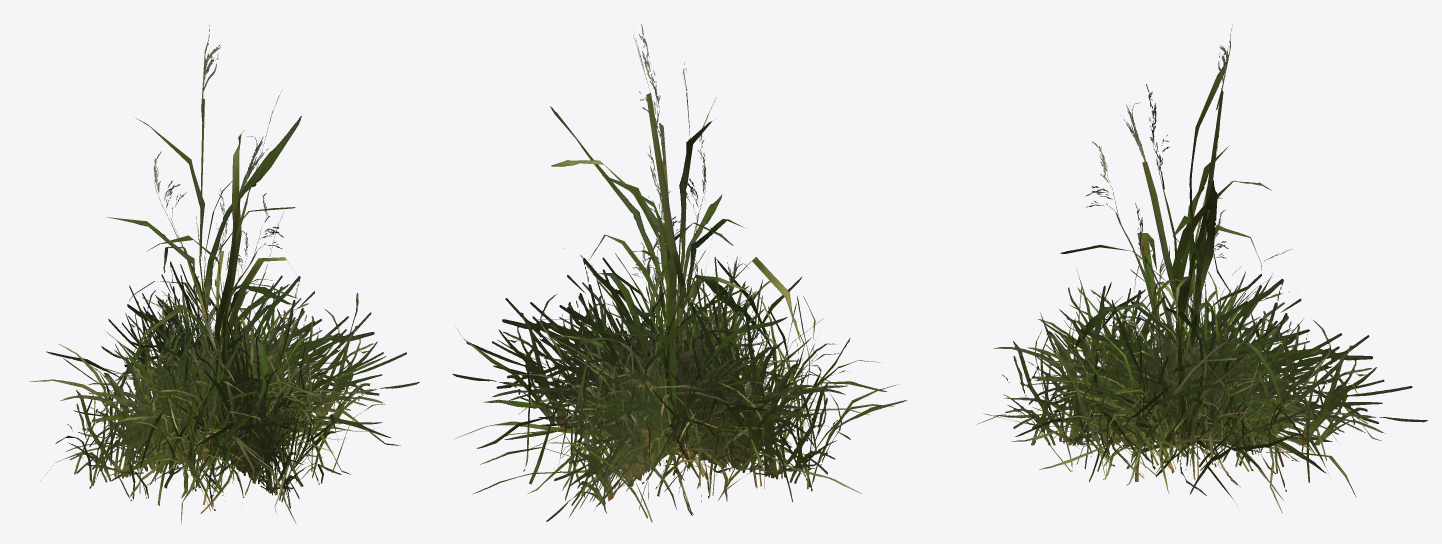
Rendered from grass_medium_01.glb.
3 views of the same model, side by side, from view 1: azimuth 30°, elevation 25°; view 2: azimuth 150°, elevation 25°; view 3: azimuth 270°, elevation 25° (orthographic). The views are drawn at different scales.
Parts seen in each view (by area): view 1: grass_medium_01_geonodes_large_a_LOD2, grass_medium_01_geonodes_large_c_LOD2, grass_medium_01_geonodes_large_b_LOD2, grass_medium_01_geonodes_tall_a_LOD2, grass_medium_01_geonodes_tall_b_LOD2, grass_medium_01_geonodes_mid_a_LOD2, grass_medium_01_geonodes_mid_c_LOD2, grass_medium_01_geonodes_mid_b_LOD2, grass_medium_01_geonodes_small_a_LOD2, grass_medium_01_geonodes_small_b_LOD2; view 2: grass_medium_01_geonodes_large_a_LOD2, grass_medium_01_geonodes_large_c_LOD2, grass_medium_01_geonodes_large_b_LOD2, grass_medium_01_geonodes_tall_a_LOD2, grass_medium_01_geonodes_mid_a_LOD2, grass_medium_01_geonodes_mid_c_LOD2, grass_medium_01_geonodes_tall_b_LOD2, grass_medium_01_geonodes_mid_b_LOD2, grass_medium_01_geonodes_small_a_LOD2, grass_medium_01_geonodes_small_b_LOD2; view 3: grass_medium_01_geonodes_large_a_LOD2, grass_medium_01_geonodes_large_c_LOD2, grass_medium_01_geonodes_large_b_LOD2, grass_medium_01_geonodes_tall_a_LOD2, grass_medium_01_geonodes_tall_b_LOD2, grass_medium_01_geonodes_mid_b_LOD2, grass_medium_01_geonodes_mid_a_LOD2, grass_medium_01_geonodes_mid_c_LOD2, grass_medium_01_geonodes_small_a_LOD2, grass_medium_01_geonodes_small_b_LOD2.
Part boxes in pixels (left/top/right/bottom): grass_medium_01_geonodes_large_a_LOD2: left=29, top=261, right=419, bottom=513; grass_medium_01_geonodes_large_c_LOD2: left=46, top=289, right=391, bottom=492; grass_medium_01_geonodes_large_b_LOD2: left=40, top=276, right=400, bottom=524; grass_medium_01_geonodes_tall_a_LOD2: left=106, top=25, right=301, bottom=458; grass_medium_01_geonodes_tall_b_LOD2: left=128, top=91, right=288, bottom=435; grass_medium_01_geonodes_mid_a_LOD2: left=106, top=208, right=345, bottom=481; grass_medium_01_geonodes_mid_c_LOD2: left=127, top=295, right=356, bottom=466; grass_medium_01_geonodes_mid_b_LOD2: left=78, top=231, right=333, bottom=494; grass_medium_01_geonodes_small_a_LOD2: left=114, top=279, right=329, bottom=501; grass_medium_01_geonodes_small_b_LOD2: left=97, top=318, right=330, bottom=498; grass_medium_01_geonodes_large_a_LOD2: left=452, top=253, right=906, bottom=522; grass_medium_01_geonodes_large_c_LOD2: left=493, top=259, right=886, bottom=514; grass_medium_01_geonodes_large_b_LOD2: left=455, top=250, right=869, bottom=518; grass_medium_01_geonodes_tall_a_LOD2: left=546, top=35, right=744, bottom=440; grass_medium_01_geonodes_mid_a_LOD2: left=533, top=145, right=798, bottom=509; grass_medium_01_geonodes_mid_c_LOD2: left=476, top=289, right=787, bottom=506; grass_medium_01_geonodes_tall_b_LOD2: left=551, top=24, right=800, bottom=361; grass_medium_01_geonodes_mid_b_LOD2: left=510, top=191, right=773, bottom=501; grass_medium_01_geonodes_small_a_LOD2: left=534, top=240, right=813, bottom=480; grass_medium_01_geonodes_small_b_LOD2: left=562, top=299, right=801, bottom=494; grass_medium_01_geonodes_large_a_LOD2: left=983, top=267, right=1427, bottom=497; grass_medium_01_geonodes_large_c_LOD2: left=1015, top=271, right=1382, bottom=479; grass_medium_01_geonodes_large_b_LOD2: left=977, top=239, right=1384, bottom=512; grass_medium_01_geonodes_tall_a_LOD2: left=1060, top=25, right=1291, bottom=449; grass_medium_01_geonodes_tall_b_LOD2: left=1074, top=84, right=1271, bottom=437; grass_medium_01_geonodes_mid_b_LOD2: left=1046, top=226, right=1312, bottom=463; grass_medium_01_geonodes_mid_a_LOD2: left=1026, top=203, right=1338, bottom=466; grass_medium_01_geonodes_mid_c_LOD2: left=1051, top=246, right=1341, bottom=499; grass_medium_01_geonodes_small_a_LOD2: left=1075, top=270, right=1302, bottom=464; grass_medium_01_geonodes_small_b_LOD2: left=1059, top=284, right=1327, bottom=470.
Bounding box in the file's own units: 0.327 × 0.3407 × 0.327.
Materials: 1 (1 with a texture image).
